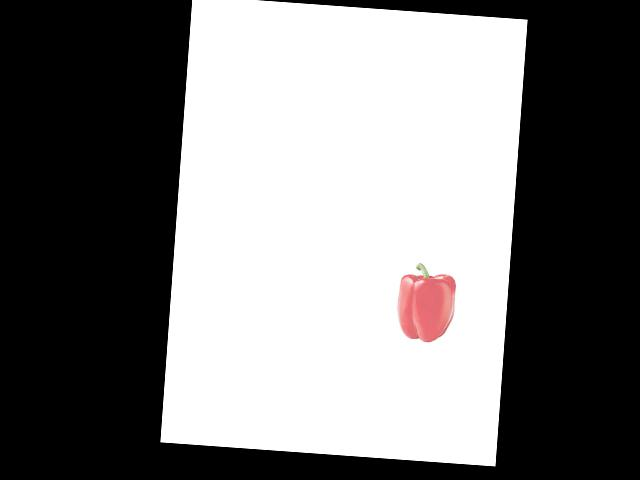bell_pepper: (391, 261, 461, 346)
